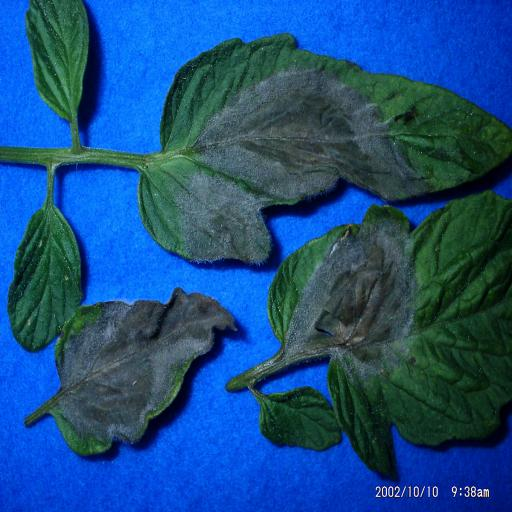disease_tomato: (138, 34, 512, 274), (264, 206, 512, 487), (52, 285, 242, 459)
